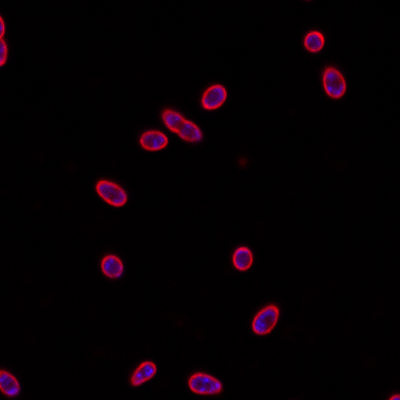MP265: (252, 305, 280, 335), (322, 66, 347, 99), (96, 180, 126, 207), (201, 83, 228, 111), (188, 373, 222, 395), (139, 130, 168, 151), (232, 247, 253, 271), (304, 31, 324, 53)
Oblique: (161, 109, 203, 143), (129, 361, 157, 386), (100, 255, 124, 280), (1, 370, 20, 397)
